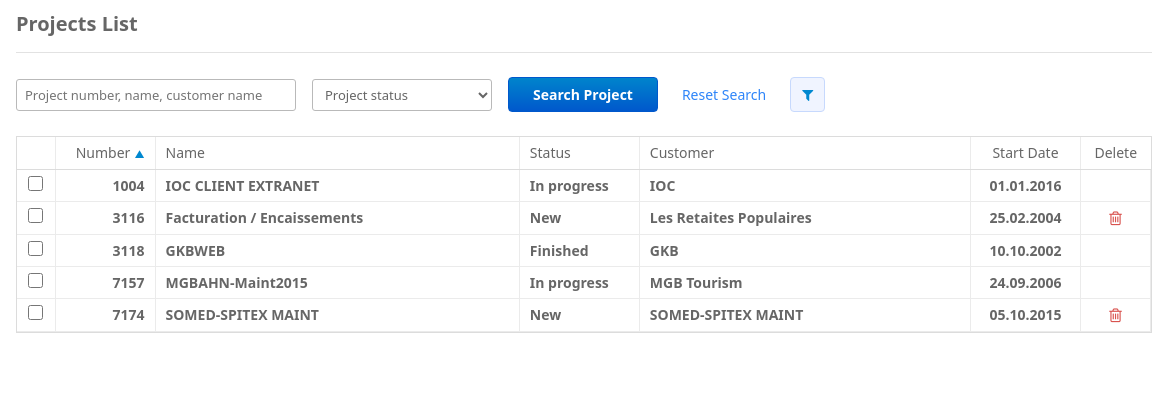
Test case: ProjectList Component Tests › selects multiple rows and displays selected count
Click the checkbox named "Select project 3116": (36, 216) [28,208,43,223]
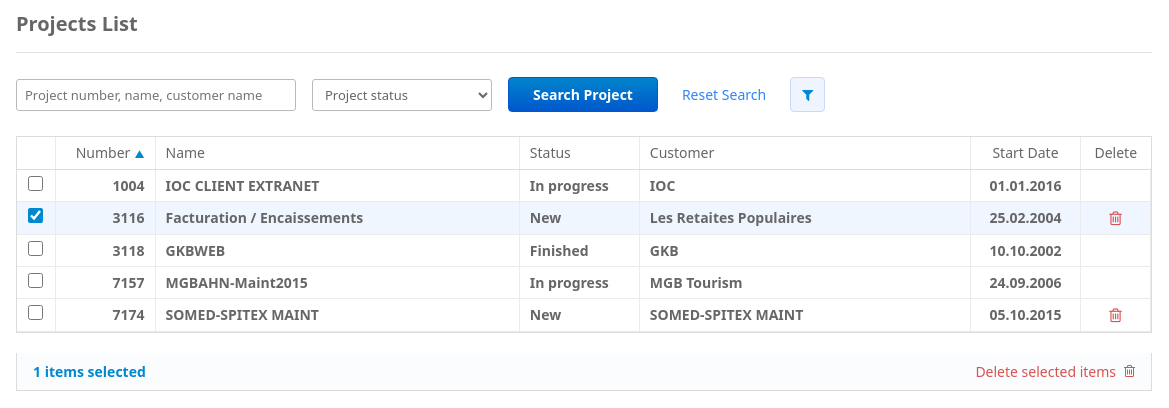
Expected: the text "1 items selected" is shown, [33,360,146,382]
Click the checkbox named "Select project 3118": (36, 248) [28,240,43,256]
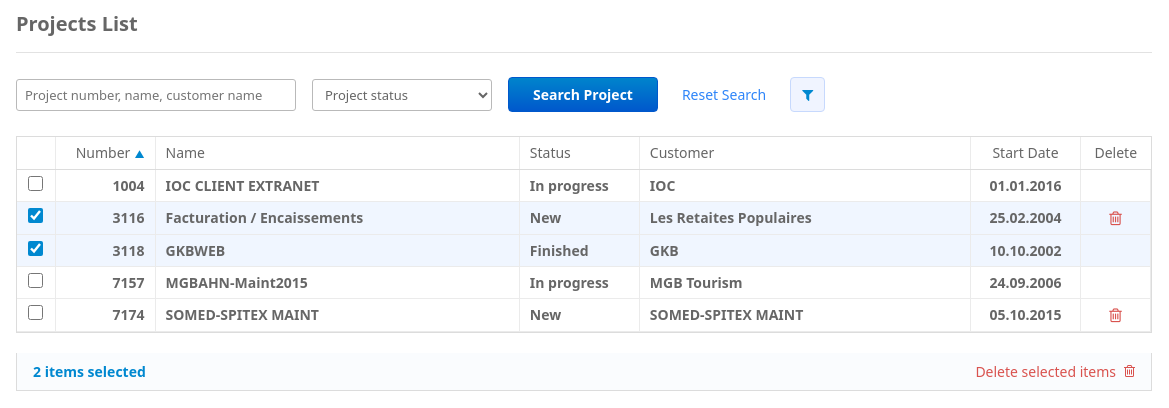
Expected: the text "2 items selected" is shown, [33,360,146,382]
